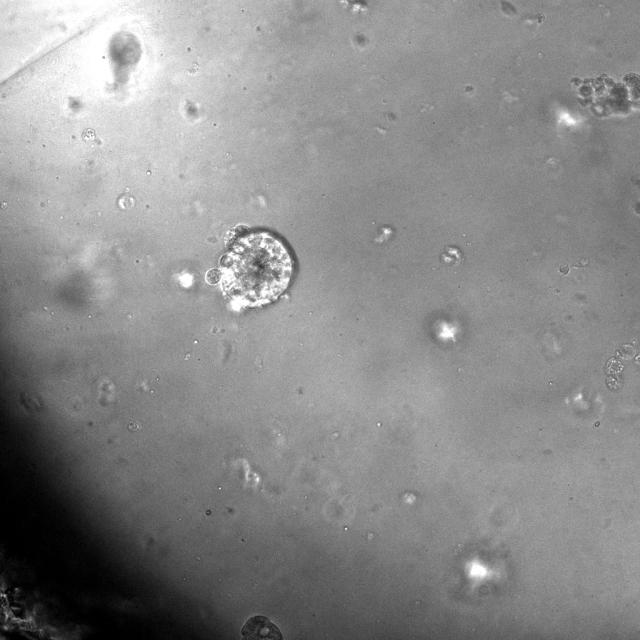organoid: (206, 224, 295, 310), (572, 73, 639, 116), (604, 341, 639, 390), (241, 616, 282, 639)
